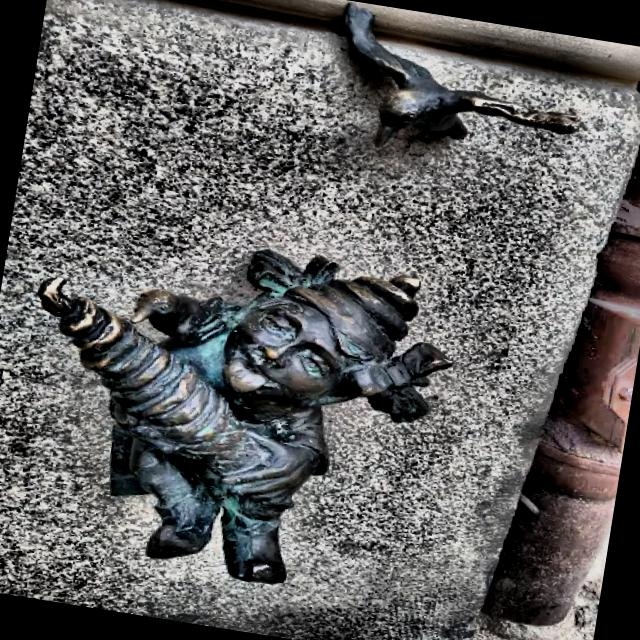Dziupelka: (40, 252, 453, 587), (335, 6, 581, 149)
